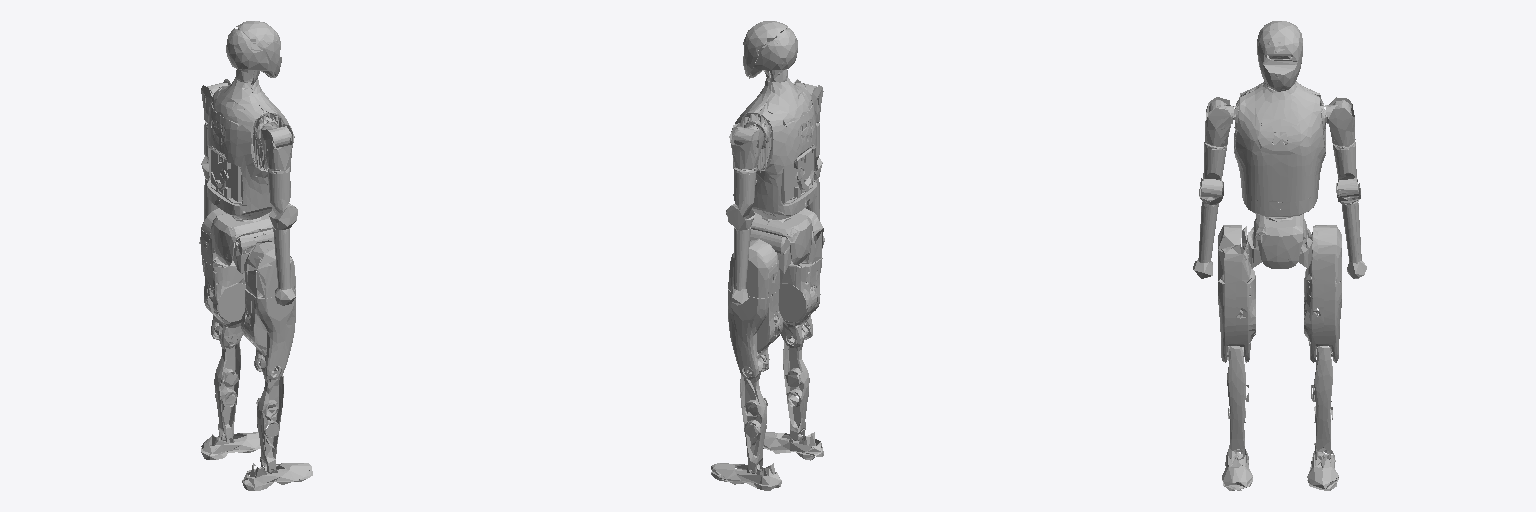
--- What the picture shows (computed from the rendered views, not written in the file) ---
The picture shows the robot from 3 angles, left to right: view 1: azimuth 30°, elevation 25°; view 2: azimuth 150°, elevation 25°; view 3: azimuth 270°, elevation 25°; orthographic projection.
Model tienkung2_EVT_V4_urdf with 21 links and 20 joints (20 revolute), rooted at pelvis, posed every joint at zero.
Visible links, largest first — view 1: pelvis, hip_yaw_r_link, hip_yaw_l_link, knee_pitch_r_link, knee_pitch_l_link, hip_pitch_r_link, elbow_pitch_r_link, ankle_roll_r_link, ankle_roll_l_link, shoulder_yaw_r_link, shoulder_roll_r_link, hip_pitch_l_link; view 2: pelvis, hip_yaw_l_link, hip_yaw_r_link, knee_pitch_l_link, knee_pitch_r_link, hip_pitch_l_link, elbow_pitch_l_link, ankle_roll_l_link, ankle_roll_r_link, shoulder_yaw_l_link, shoulder_roll_l_link, hip_pitch_r_link; view 3: pelvis, hip_yaw_r_link, hip_yaw_l_link, knee_pitch_l_link, hip_pitch_l_link, knee_pitch_r_link, hip_pitch_r_link, elbow_pitch_r_link, elbow_pitch_l_link, shoulder_yaw_l_link, shoulder_yaw_r_link, shoulder_roll_r_link (+3 smaller).
Link boxes in pixels (box(x1,y1,x2,y2)): pelvis: box(207, 21, 291, 265); hip_yaw_r_link: box(241, 288, 295, 379); hip_yaw_l_link: box(202, 259, 245, 348); knee_pitch_r_link: box(256, 358, 283, 473); knee_pitch_l_link: box(214, 325, 240, 442); hip_pitch_r_link: box(244, 240, 295, 298); elbow_pitch_r_link: box(269, 207, 297, 305); ankle_roll_r_link: box(242, 463, 312, 490); ankle_roll_l_link: box(201, 432, 260, 459); shoulder_yaw_r_link: box(268, 167, 296, 215); shoulder_roll_r_link: box(260, 123, 294, 170); hip_pitch_l_link: box(200, 208, 234, 266); pelvis: box(732, 21, 816, 264); hip_yaw_l_link: box(728, 289, 782, 379); hip_yaw_r_link: box(779, 258, 822, 347); knee_pitch_l_link: box(740, 358, 767, 472); knee_pitch_r_link: box(783, 326, 809, 440); hip_pitch_l_link: box(728, 239, 779, 298); elbow_pitch_l_link: box(728, 209, 754, 305); ankle_roll_l_link: box(711, 463, 781, 490); ankle_roll_r_link: box(763, 432, 823, 460); shoulder_yaw_l_link: box(726, 168, 756, 217); shoulder_roll_l_link: box(729, 123, 763, 169); hip_pitch_r_link: box(791, 208, 823, 263); pelvis: box(1234, 21, 1326, 268); hip_yaw_r_link: box(1218, 270, 1255, 362); hip_yaw_l_link: box(1304, 271, 1341, 362); knee_pitch_l_link: box(1311, 346, 1332, 459); hip_pitch_l_link: box(1306, 225, 1341, 283); knee_pitch_r_link: box(1227, 346, 1248, 458); hip_pitch_r_link: box(1218, 225, 1253, 283); elbow_pitch_r_link: box(1193, 178, 1223, 278); elbow_pitch_l_link: box(1336, 183, 1366, 278); shoulder_yaw_l_link: box(1333, 142, 1359, 197); shoulder_yaw_r_link: box(1200, 142, 1227, 197); shoulder_roll_r_link: box(1205, 97, 1230, 146).
Bounding box of the posed robot: 0.3129 × 0.6094 × 1.73 m (x, y, z).
21 mesh visuals loaded from 21 distinct referenced files (21 binary STL).

The robot description file, URDF, robot "tienkung2_EVT_V4_urdf":
<?xml version="1.0" encoding="utf-8"?>
<!-- This URDF was automatically created by SolidWorks to URDF Exporter! Originally created by Stephen Brawner ([email redacted])
     Commit Version: 1.6.0-4-g7f85cfe  Build Version: 1.6.7995.38578
     For more information, please see http://wiki.ros.org/sw_urdf_exporter -->
<robot name="tienkung2_EVT_V4_urdf">
  <mujoco>
    <compiler meshdir="../meshes/" balanceinertia="true" discardvisual="false"/>
  </mujoco>
  <link name="pelvis">
    <inertial>
      <origin xyz="0.001537 0.000283 0.177608" rpy="0 0 0" />
      <mass value="27.771712" />
      <inertia ixx="0.951691" ixy="-0.003894" ixz="-0.023254" iyy="0.922523" iyz="0.001565" izz="0.197666" />
    </inertial>
    <visual>
      <origin xyz="0 0 0" rpy="0 0 0" />
      <geometry>
        <mesh filename="../meshes/pelvis.STL" />
      </geometry>
      <material name="">
        <color rgba="0.752941176470588 0.752941176470588 0.752941176470588 1" />
      </material>
    </visual>
    <!-- <collision>
      <origin xyz="0 0 0" rpy="0 0 0" />
      <geometry>
        <mesh filename="../meshes/pelvis.STL" />
      </geometry>
    </collision> -->
    <collision>
      <origin xyz="-0.02 0.0 -0.11" rpy="1.57 0 0" />
      <geometry>
        <cylinder length="0.11" radius="0.085"/>
      </geometry>
    </collision>
  </link>
  <link name="hip_roll_l_link">
    <inertial>
      <origin xyz="-0.001848 0.055849 -0.036017" rpy="0 0 0" />
      <mass value="0.672983" />
      <inertia ixx="0.001020" ixy="-0.000070" ixz="0.000038" iyy="0.003221" iyz="0.000281" izz="0.003272" />
    </inertial>
    <visual>
      <origin xyz="0 0 0" rpy="0 0 0" />
      <geometry>
        <mesh filename="../meshes/hip_roll_l_link.STL" />
      </geometry>
      <material name="">
        <color rgba="0.752941176470588 0.752941176470588 0.752941176470588 1" />
      </material>
    </visual>
    <!-- <collision>
      <origin xyz="0 0 0" rpy="0 0 0" />
      <geometry>
        <mesh filename="../meshes/hip_roll_l_link.STL" />
      </geometry>
    </collision> -->
  </link>
  <joint name="hip_roll_l_joint" type="revolute">
    <origin xyz="0 0.028 -0.0857" rpy="0 0 0" />
    <parent link="pelvis" />
    <child link="hip_roll_l_link" />
    <axis xyz="1 0 0" />
    <limit effort="180" lower="-0.79" upper="0.79" velocity="15.6"/>
    <dynamics damping="0.0" friction="0.0"/>
  </joint>
  <link name="hip_pitch_l_link">
    <inertial>
      <origin xyz="0.001081 -0.000088 -0.013133" rpy="0 0 0" />
      <mass value="3.951912" />
      <inertia ixx="0.010841" ixy="-0.000027" ixz="0.000234" iyy="0.015597" iyz="0.000123" izz="0.009340" />
    </inertial>
    <visual>
      <origin xyz="0 0 0" rpy="0 0 0" />
      <geometry>
        <mesh filename="../meshes/hip_pitch_l_link.STL" />
      </geometry>
      <material name="">
        <color rgba="0.752941176470588 0.752941176470588 0.752941176470588 1" />
      </material>
    </visual>
    <!-- <collision>
      <origin xyz="0 0 0" rpy="0 0 0" />
      <geometry>
        <mesh filename="../meshes/hip_pitch_l_link.STL" />
      </geometry>
    </collision> -->
  </link>
  <joint name="hip_pitch_l_joint" type="revolute">
    <origin xyz="0 0.122 -0.046" rpy="0 0 0" />
    <parent link="hip_roll_l_link" />
    <child link="hip_pitch_l_link" />
    <axis xyz="0 1 0" />
    <limit effort="300" lower="-2.79" upper="2.09" velocity="15.6"/>
    <dynamics damping="0.0" friction="0.0"/>
  </joint>
  <link name="hip_yaw_l_link">
    <inertial>
      <origin xyz="0.004102 -0.006542 -0.121068" rpy="0 0 0" />
      <mass value="6.670795" />
      <inertia ixx="0.049573" ixy="-0.000228" ixz="-0.000044" iyy="0.053307" iyz="-0.001401" izz="0.017924" />
    </inertial>
    <visual>
      <origin xyz="0 0 0" rpy="0 0 0" />
      <geometry>
        <mesh filename="../meshes/hip_yaw_l_link.STL" />
      </geometry>
      <material name="">
        <color rgba="0.752941176470588 0.752941176470588 0.752941176470588 1" />
      </material>
    </visual>
    <!-- <collision>
      <origin xyz="0 0 0" rpy="0 0 0" />
      <geometry>
        <mesh filename="../meshes/hip_yaw_l_link.STL" />
      </geometry>
    </collision> -->
    <collision>
      <origin rpy="0 0 0" xyz="0.0 0.0 -0.1"/>
      <geometry>
        <cylinder length="0.2" radius="0.03"/>
      </geometry>
    </collision>
  </link>
  <joint name="hip_yaw_l_joint" type="revolute">
    <origin xyz="0 -0.00015 -0.0987" rpy="0 0 0" />
    <parent link="hip_pitch_l_link" />
    <child link="hip_yaw_l_link" />
    <axis xyz="0 0 1" />
    <limit effort="180" lower="-1.04" upper="1.04" velocity="15.6"/>
    <dynamics damping="0.0" friction="0.0"/>
  </joint>
  <link name="knee_pitch_l_link">
    <inertial>
      <origin xyz="0.000180 0.001915 -0.178653" rpy="0 0 0" />
      <mass value="2.312685" />
      <inertia ixx="0.030244" ixy="-0.000010" ixz="-0.002398" iyy="0.030910" iyz="-0.000689" izz="0.002922" />
    </inertial>
    <visual>
      <origin xyz="0 0 0" rpy="0 0 0" />
      <geometry>
        <mesh filename="../meshes/knee_pitch_l_link.STL" />
      </geometry>
      <material name="">
        <color rgba="0.752941176470588 0.752941176470588 0.752941176470588 1" />
      </material>
    </visual>
    <!-- <collision>
      <origin xyz="0 0 0" rpy="0 0 0" />
      <geometry>
        <mesh filename="../meshes/knee_pitch_l_link.STL" />
      </geometry>
    </collision> -->
    <collision>
      <origin rpy="0 0 0" xyz="0.0 0.0 -0.15"/>
      <geometry>
        <cylinder length="0.3" radius="0.03"/>
      </geometry>
    </collision>
  </link>
  <joint name="knee_pitch_l_joint" type="revolute">
    <origin xyz="0 0.00010715 -0.3013" rpy="0 0 0" />
    <parent link="hip_yaw_l_link" />
    <child link="knee_pitch_l_link" />
    <axis xyz="0 1 0" />
    <limit effort="300" lower="0.0" upper="2.39" velocity="15.6"/>
    <dynamics damping="0.0" friction="0.0"/>
  </joint>
  <link name="ankle_pitch_l_link">
    <inertial>
      <origin xyz="0 0 0" rpy="0 0 0" />
      <mass value="0.111609" />
      <inertia ixx="0.000018" ixy="0" ixz="0" iyy="0.000018" iyz="0" izz="0.000032" />
    </inertial>
    <visual>
      <origin xyz="0 0 0" rpy="0 0 0" />
      <geometry>
        <mesh filename="../meshes/ankle_pitch_l_link.STL" />
      </geometry>
      <material name="">
        <color rgba="0.752941176470588 0.752941176470588 0.752941176470588 1" />
      </material>
    </visual>
    <!-- <collision>
      <origin xyz="0 0 0" rpy="0 0 0" />
      <geometry>
        <mesh filename="../meshes/ankle_pitch_l_link.STL" />
      </geometry>
    </collision> -->
  </link>
  <joint name="ankle_pitch_l_joint" type="revolute">
    <origin xyz="0 0 -0.4" rpy="0 0 0" />
    <parent link="knee_pitch_l_link" />
    <child link="ankle_pitch_l_link" />
    <axis xyz="0 1 0" />
    <limit effort="60" lower="-1.22" upper="0.5236" velocity="12.8"/>
    <dynamics damping="0.0" friction="0.0"/>
  </joint>
  <link name="ankle_roll_l_link">
    <inertial>
      <origin xyz="0.021235 0.000000 -0.032883" rpy="0 0 0" />
      <mass value="1.017381" />
      <inertia ixx="0.001028" ixy="0.000000" ixz="0.000622" iyy="0.006055" iyz="0.000000" izz="0.006240" />
    </inertial>
    <visual>
      <origin xyz="0 0 0" rpy="0 0 0" />
      <geometry>
        <mesh filename="../meshes/ankle_roll_l_link.STL" />
      </geometry>
      <material name="">
        <color rgba="0.752941176470588 0.752941176470588 0.752941176470588 1" />
      </material>
    </visual>
    <!-- <collision>
      <origin xyz="0 0 0" rpy="0 0 0" />
      <geometry>
        <mesh filename="../meshes/ankle_roll_l_link.STL" />
      </geometry>
    </collision> -->
    <collision name="toe1_left">
      <origin rpy="0 1.5708 0" xyz="0.035 0.025 -0.042"/>
      <geometry>
        <cylinder length="0.23" radius="0.015"/>
      </geometry>
    </collision>
    <collision name="toe2_left">
      <origin rpy="0 1.5708 0" xyz="0.035 -0.025 -0.042"/>
      <geometry>
        <cylinder length="0.23" radius="0.015"/>
      </geometry>
    </collision>
  </link>
  <joint name="ankle_roll_l_joint" type="revolute">
    <origin xyz="0 0 0" rpy="0 0 0" />
    <parent link="ankle_pitch_l_link" />
    <child link="ankle_roll_l_link" />
    <axis xyz="1 0 0" />
    <limit effort="30" lower="-0.4363" upper="0.4363" velocity="7.8"/>
    <dynamics damping="0.0" friction="0.0"/>
  </joint>
  <link name="hip_roll_r_link">
    <inertial>
      <origin xyz="-0.001848 -0.055849 -0.036017" rpy="0 0 0" />
      <mass value="0.672983" />
      <inertia ixx="0.001020" ixy="0.000070" ixz="0.000038" iyy="0.003221" iyz="-0.000281" izz="0.003272" />
    </inertial>
    <visual>
      <origin xyz="0 0 0" rpy="0 0 0" />
      <geometry>
        <mesh filename="../meshes/hip_roll_r_link.STL" />
      </geometry>
      <material name="">
        <color rgba="0.752941176470588 0.752941176470588 0.752941176470588 1" />
      </material>
    </visual>
    <!-- <collision>
      <origin xyz="0 0 0" rpy="0 0 0" />
      <geometry>
        <mesh filename="../meshes/hip_roll_r_link.STL" />
      </geometry>
    </collision> -->
  </link>
  <joint name="hip_roll_r_joint" type="revolute">
    <origin xyz="0 -0.028 -0.0857" rpy="0 0 0" />
    <parent link="pelvis" />
    <child link="hip_roll_r_link" />
    <axis xyz="1 0 0" />
    <limit effort="180" lower="-0.79" upper="0.79" velocity="15.6"/>
    <dynamics damping="0.0" friction="0.0"/>
  </joint>
  <link name="hip_pitch_r_link">
    <inertial>
      <origin xyz="0.001081 0.000088 -0.013133" rpy="0 0 0" />
      <mass value="3.951912" />
      <inertia ixx="0.010841" ixy="0.000027" ixz="0.000234" iyy="0.015597" iyz="-0.000123" izz="0.009340" />
    </inertial>
    <visual>
      <origin xyz="0 0 0" rpy="0 0 0" />
      <geometry>
        <mesh filename="../meshes/hip_pitch_r_link.STL" />
      </geometry>
      <material name="">
        <color rgba="0.752941176470588 0.752941176470588 0.752941176470588 1" />
      </material>
    </visual>
    <!-- <collision>
      <origin xyz="0 0 0" rpy="0 0 0" />
      <geometry>
        <mesh filename="../meshes/hip_pitch_r_link.STL" />
      </geometry>
    </collision> -->
  </link>
  <joint name="hip_pitch_r_joint" type="revolute">
    <origin xyz="0 -0.122 -0.046" rpy="0 0 0" />
    <parent link="hip_roll_r_link" />
    <child link="hip_pitch_r_link" />
    <axis xyz="0 1 0" />
    <limit effort="300" lower="-2.79" upper="2.09" velocity="15.6"/>
    <dynamics damping="0.0" friction="0.0"/>
  </joint>
  <link name="hip_yaw_r_link">
    <inertial>
      <origin xyz="0.004102 0.006542 -0.121068" rpy="0 0 0" />
      <mass value="6.670795" />
      <inertia ixx="0.049573" ixy="0.000228" ixz="-0.000044" iyy="0.053307" iyz="0.001401" izz="0.017924" />
    </inertial>
    <visual>
      <origin xyz="0 0 0" rpy="0 0 0" />
      <geometry>
        <mesh filename="../meshes/hip_yaw_r_link.STL" />
      </geometry>
      <material name="">
        <color rgba="0.752941176470588 0.752941176470588 0.752941176470588 1" />
      </material>
    </visual>
    <!-- <collision>
      <origin xyz="0 0 0" rpy="0 0 0" />
      <geometry>
        <mesh filename="../meshes/hip_yaw_r_link.STL" />
      </geometry>
    </collision> -->
    <collision>
      <origin rpy="0 0 0" xyz="0.0 0.0 -0.1"/>
      <geometry>
        <cylinder length="0.2" radius="0.03"/>
      </geometry>
    </collision>
  </link>
  <joint name="hip_yaw_r_joint" type="revolute">
    <origin xyz="0 0 -0.0987" rpy="0 0 0" />
    <parent link="hip_pitch_r_link" />
    <child link="hip_yaw_r_link" />
    <axis xyz="0 0 1" />
    <limit effort="180" lower="-1.04" upper="1.04" velocity="15.6"/>
    <dynamics damping="0.0" friction="0.0"/>
  </joint>
  <link name="knee_pitch_r_link">
    <inertial>
      <origin xyz="0.000180 -0.001915 -0.178653" rpy="0 0 0" />
      <mass value="2.312685" />
      <inertia ixx="0.030244" ixy="0.000010" ixz="-0.002398" iyy="0.030910" iyz="0.000689" izz="0.002922" />
    </inertial>
    <visual>
      <origin xyz="0 0 0" rpy="0 0 0" />
      <geometry>
        <mesh filename="../meshes/knee_pitch_r_link.STL" />
      </geometry>
      <material name="">
        <color rgba="0.752941176470588 0.752941176470588 0.752941176470588 1" />
      </material>
    </visual>
    <!-- <collision>
      <origin xyz="0 0 0" rpy="0 0 0" />
      <geometry>
        <mesh filename="../meshes/knee_pitch_r_link.STL" />
      </geometry>
    </collision> -->
    <collision>
      <origin rpy="0 0 0" xyz="0.0 0.0 -0.15"/>
      <geometry>
        <cylinder length="0.3" radius="0.03"/>
      </geometry>
    </collision>
  </link>
  <joint name="knee_pitch_r_joint" type="revolute">
    <origin xyz="0 0.00035002 -0.3013" rpy="0 0 0" />
    <parent link="hip_yaw_r_link" />
    <child link="knee_pitch_r_link" />
    <axis xyz="0 1 0" />
    <limit effort="300" lower="0.0" upper="2.39" velocity="15.6"/>
    <dynamics damping="0.0" friction="0.0"/>
  </joint>
  <link name="ankle_pitch_r_link">
    <inertial>
      <origin xyz="0 0 0" rpy="0 0 0" />
      <mass value="0.111609" />
      <inertia ixx="0.000018" ixy="0" ixz="0" iyy="0.000018" iyz="0" izz="0.000032" />
    </inertial>
    <visual>
      <origin xyz="0 0 0" rpy="0 0 0" />
      <geometry>
        <mesh filename="../meshes/ankle_pitch_r_link.STL" />
      </geometry>
      <material name="">
        <color rgba="0.752941176470588 0.752941176470588 0.752941176470588 1" />
      </material>
    </visual>
    <!-- <collision>
      <origin xyz="0 0 0" rpy="0 0 0" />
      <geometry>
        <mesh filename="../meshes/ankle_pitch_r_link.STL" />
      </geometry>
    </collision> -->
  </link>
  <joint name="ankle_pitch_r_joint" type="revolute">
    <origin xyz="0 0.00074981 -0.4" rpy="0 0 0" />
    <parent link="knee_pitch_r_link" />
    <child link="ankle_pitch_r_link" />
    <axis xyz="0 1 0" />
    <limit effort="60" lower="-1.22" upper="0.5236" velocity="12.8"/>
    <dynamics damping="0.0" friction="0.0"/>
  </joint>
  <link name="ankle_roll_r_link">
    <inertial>
      <origin xyz="0.021235 0.000000 -0.032883" rpy="0 0 0" />
      <mass value="1.017381" />
      <inertia ixx="0.001028" ixy="0.000000" ixz="0.000622" iyy="0.006055" iyz="0.000000" izz="0.006240" />
    </inertial>
    <visual>
      <origin xyz="0 0 0" rpy="0 0 0" />
      <geometry>
        <mesh filename="../meshes/ankle_roll_r_link.STL" />
      </geometry>
      <material name="">
        <color rgba="0.752941176470588 0.752941176470588 0.752941176470588 1" />
      </material>
    </visual>
    <!-- <collision>
      <origin xyz="0 0 0" rpy="0 0 0" />
      <geometry>
        <mesh filename="../meshes/ankle_roll_r_link.STL" />
      </geometry>
    </collision> -->
    <collision name="toe1_right">
      <origin rpy="0 1.5708 0" xyz="0.035 0.025 -0.042"/>
      <geometry>
        <cylinder length="0.23" radius="0.015"/>
      </geometry>
    </collision>
    <collision name="toe2_right">
      <origin rpy="0 1.5708 0" xyz="0.035 -0.025 -0.042"/>
      <geometry>
        <cylinder length="0.23" radius="0.015"/>
      </geometry>
    </collision>
  </link>
  <joint name="ankle_roll_r_joint" type="revolute">
    <origin xyz="0 0 0" rpy="0 0 0" />
    <parent link="ankle_pitch_r_link" />
    <child link="ankle_roll_r_link" />
    <axis xyz="1 0 0" />
    <limit effort="30" lower="-0.4363" upper="0.4363" velocity="7.8"/>
    <dynamics damping="0.0" friction="0.0"/>
  </joint>
  <link name="shoulder_pitch_l_link">
    <inertial>
      <origin xyz="0.006486 0.068343 0.000219" rpy="0 0 0" />
      <mass value="0.469057" />
      <inertia ixx="0.000401" ixy="-0.000015" ixz="0.000001" iyy="0.000368" iyz="0.000003" izz="0.000468" />
    </inertial>
    <visual>
      <origin xyz="0 0 0" rpy="0 0 0" />
      <geometry>
        <mesh filename="../meshes/shoulder_pitch_l_link.STL" />
      </geometry>
      <material name="">
        <color rgba="0.752941176470588 0.752941176470588 0.752941176470588 1" />
      </material>
    </visual>
    <!-- <collision>
      <origin xyz="0 0 0" rpy="0 0 0" />
      <geometry>
        <mesh filename="../meshes/shoulder_pitch_l_link.STL" />
      </geometry>
    </collision> -->
  </link>
  <joint name="shoulder_pitch_l_joint" type="revolute">
    <origin xyz="0 0.14034 0.37677" rpy="0.087266 0 0" />
    <parent link="pelvis" />
    <child link="shoulder_pitch_l_link" />
    <axis xyz="0 1 0" />
    <limit effort="52.5" lower="-2.96" upper="2.96" velocity="14.1"/>
    <dynamics damping="0.0" friction="0.0"/>
  </joint>
  <link name="shoulder_roll_l_link">
    <inertial>
      <origin xyz="-0.000165 0.001557 -0.049098" rpy="0 0 0" />
      <mass value="0.298029" />
      <inertia ixx="0.000881" ixy="0.000000" ixz="0.000004" iyy="0.000998" iyz="-0.000019" izz="0.000574" />
    </inertial>
    <visual>
      <origin xyz="0 0 0" rpy="0 0 0" />
      <geometry>
        <mesh filename="../meshes/shoulder_roll_l_link.STL" />
      </geometry>
      <material name="">
        <color rgba="0.752941176470588 0.752941176470588 0.752941176470588 1" />
      </material>
    </visual>
    <!-- <collision>
      <origin xyz="0 0 0" rpy="0 0 0" />
      <geometry>
        <mesh filename="../meshes/shoulder_roll_l_link.STL" />
      </geometry>
    </collision> -->
    <collision>
      <origin xyz="0 0 0" rpy="0 0 0" />
      <geometry>
        <sphere radius="0.035"/>
      </geometry>
    </collision>
  </link>
  <joint name="shoulder_roll_l_joint" type="revolute">
    <origin xyz="0 0.073 0" rpy="0 0 0" />
    <parent link="shoulder_pitch_l_link" />
    <child link="shoulder_roll_l_link" />
    <axis xyz="1 0 0" />
    <limit effort="52.5" lower="-0.2618" upper="3.4" velocity="14.1"/>
    <dynamics damping="0.0" friction="0.0"/>
  </joint>
  <link name="shoulder_yaw_l_link">
    <inertial>
      <origin xyz="0.008090 -0.001020 -0.082881" rpy="0 0 0" />
      <mass value="0.936080" />
      <inertia ixx="0.004118" ixy="0.000013" ixz="0.000506" iyy="0.004156" iyz="-0.000066" izz="0.000785" />
    </inertial>
    <visual>
      <origin xyz="0 0 0" rpy="0 0 0" />
      <geometry>
        <mesh filename="../meshes/shoulder_yaw_l_link.STL" />
      </geometry>
      <material name="">
        <color rgba="0.752941176470588 0.752941176470588 0.752941176470588 1" />
      </material>
    </visual>
    <!-- <collision>
      <origin xyz="0 0 0" rpy="0 0 0" />
      <geometry>
        <mesh filename="../meshes/shoulder_yaw_l_link.STL" />
      </geometry>
    </collision> -->
  </link>
  <joint name="shoulder_yaw_l_joint" type="revolute">
    <origin xyz="0 0 -0.13" rpy="0 0 0" />
    <parent link="shoulder_roll_l_link" />
    <child link="shoulder_yaw_l_link" />
    <axis xyz="0 0 1" />
    <limit effort="52.5" lower="-2.96" upper="2.96" velocity="14.1"/>
    <dynamics damping="0.0" friction="0.0"/>
  </joint>
  <link name="elbow_pitch_l_link">
    <inertial>
      <origin xyz="-0.019072 0.000031 -0.195441" rpy="0 0 0" />
      <mass value="0.553799" />
      <inertia ixx="0.008486" ixy="0.000004" ixz="-0.000099" iyy="0.008444" iyz="0.000047" izz="0.000476" />
    </inertial>
    <visual>
      <origin xyz="0 0 0" rpy="0 0 0" />
      <geometry>
        <mesh filename="../meshes/elbow_pitch_l_link.STL" />
      </geometry>
      <material name="">
        <color rgba="0.752941176470588 0.752941176470588 0.752941176470588 1" />
      </material>
    </visual>
    <!-- <collision>
      <origin xyz="0 0 0" rpy="0 0 0" />
      <geometry>
        <mesh filename="../meshes/elbow_pitch_l_link.STL" />
      </geometry>
    </collision> -->
    <collision>
      <origin xyz="0 -0.0 0" rpy="0 0 0" />
      <geometry>
        <sphere radius="0.035"/>
      </geometry>
    </collision>
  </link>
  <joint name="elbow_pitch_l_joint" type="revolute">
    <origin xyz="0.019998 0 -0.15" rpy="0 0 0" />
    <parent link="shoulder_yaw_l_link" />
    <child link="elbow_pitch_l_link" />
    <axis xyz="0 1 0" />
    <limit effort="52.5" lower="-2.61" upper="0.261" velocity="14.1"/>
    <dynamics damping="0.0" friction="0.0"/>
  </joint>
  <link name="shoulder_pitch_r_link">
    <inertial>
      <origin xyz="0.006486 -0.068343 0.000219" rpy="0 0 0" />
      <mass value="0.469057" />
      <inertia ixx="0.000401" ixy="0.000015" ixz="0.000001" iyy="0.000368" iyz="-0.000003" izz="0.000468" />
    </inertial>
    <visual>
      <origin xyz="0 0 0" rpy="0 0 0" />
      <geometry>
        <mesh filename="../meshes/shoulder_pitch_r_link.STL" />
      </geometry>
      <material name="">
        <color rgba="0.752941176470588 0.752941176470588 0.752941176470588 1" />
      </material>
    </visual>
    <!-- <collision>
      <origin xyz="0 0 0" rpy="0 0 0" />
      <geometry>
        <mesh filename="../meshes/shoulder_pitch_r_link.STL" />
      </geometry>
    </collision> -->
  </link>
  <joint name="shoulder_pitch_r_joint" type="revolute">
    <origin xyz="0 -0.14034 0.37677" rpy="-0.087266 0 0" />
    <parent link="pelvis" />
    <child link="shoulder_pitch_r_link" />
    <axis xyz="0 1 0" />
    <limit effort="52.5" lower="-2.96" upper="2.96" velocity="14.1"/>
    <dynamics damping="0.0" friction="0.0"/>
  </joint>
  <link name="shoulder_roll_r_link">
    <inertial>
      <origin xyz="-0.000165 -0.001557 -0.049098" rpy="0 0 0" />
      <mass value="0.298029" />
      <inertia ixx="0.000881" ixy="0.000000" ixz="0.000004" iyy="0.000998" iyz="0.000019" izz="0.000574" />
    </inertial>
    <visual>
      <origin xyz="0 0 0" rpy="0 0 0" />
      <geometry>
        <mesh filename="../meshes/shoulder_roll_r_link.STL" />
      </geometry>
      <material name="">
        <color rgba="0.752941176470588 0.752941176470588 0.752941176470588 1" />
      </material>
    </visual>
    <!-- <collision>
      <origin xyz="0 0 0" rpy="0 0 0" />
      <geometry>
        <mesh filename="../meshes/shoulder_roll_r_link.STL" />
      </geometry>
    </collision> -->
    <collision>
      <origin xyz="0 0 0" rpy="0 0 0" />
      <geometry>
        <sphere radius="0.035"/>
      </geometry>
    </collision>
  </link>
  <joint name="shoulder_roll_r_joint" type="revolute">
    <origin xyz="0 -0.073 0" rpy="0 0 0" />
    <parent link="shoulder_pitch_r_link" />
    <child link="shoulder_roll_r_link" />
    <axis xyz="1 0 0" />
    <limit effort="52.5" lower="-3.4" upper="0.2618" velocity="14.1"/>
    <dynamics damping="0.0" friction="0.0"/>
  </joint>
  <link name="shoulder_yaw_r_link">
    <inertial>
      <origin xyz="0.008090 0.001020 -0.082881" rpy="0 0 0" />
      <mass value="0.936080" />
      <inertia ixx="0.004118" ixy="-0.000013" ixz="0.000506" iyy="0.004156" iyz="0.000066" izz="0.000785" />
    </inertial>
    <visual>
      <origin xyz="0 0 0" rpy="0 0 0" />
      <geometry>
        <mesh filename="../meshes/shoulder_yaw_r_link.STL" />
      </geometry>
      <material name="">
        <color rgba="0.752941176470588 0.752941176470588 0.752941176470588 1" />
      </material>
    </visual>
    <!-- <collision>
      <origin xyz="0 0 0" rpy="0 0 0" />
      <geometry>
        <mesh filename="../meshes/shoulder_yaw_r_link.STL" />
      </geometry>
    </collision> -->
  </link>
  <joint name="shoulder_yaw_r_joint" type="revolute">
    <origin xyz="0 0 -0.13" rpy="0 0 0" />
    <parent link="shoulder_roll_r_link" />
    <child link="shoulder_yaw_r_link" />
    <axis xyz="0 0 1" />
    <limit effort="52.5" lower="-2.96" upper="2.96" velocity="14.1"/>
    <dynamics damping="0.0" friction="0.0"/>
  </joint>
  <link name="elbow_pitch_r_link">
    <inertial>
      <origin xyz="-0.019072 -0.000031 -0.195441" rpy="0 0 0" />
      <mass value="0.553799" />
      <inertia ixx="0.008486" ixy="-0.000004" ixz="-0.000099" iyy="0.008444" iyz="-0.000047" izz="0.000476" />
    </inertial>
    <visual>
      <origin xyz="0 0 0" rpy="0 0 0" />
      <geometry>
        <mesh filename="../meshes/elbow_pitch_r_link.STL" />
      </geometry>
      <material name="">
        <color rgba="0.752941176470588 0.752941176470588 0.752941176470588 1" />
      </material>
    </visual>
    <!-- <collision>
      <origin xyz="0 0 0" rpy="0 0 0" />
      <geometry>
        <mesh filename="../meshes/elbow_pitch_r_link.STL" />
      </geometry>
    </collision> -->
    <collision>
      <origin xyz="0 0.0 0" rpy="0 0 0" />
      <geometry>
        <sphere radius="0.035"/>
      </geometry>
    </collision>
  </link>
  <joint name="elbow_pitch_r_joint" type="revolute">
    <origin xyz="0.020003 0 -0.15" rpy="0 0 0" />
    <parent link="shoulder_yaw_r_link" />
    <child link="elbow_pitch_r_link" />
    <axis xyz="0 1 0" />
    <limit effort="52.5" lower="-2.61" upper="0.261" velocity="14.1"/>
    <dynamics damping="0.0" friction="0.0"/>
  </joint>
</robot>
